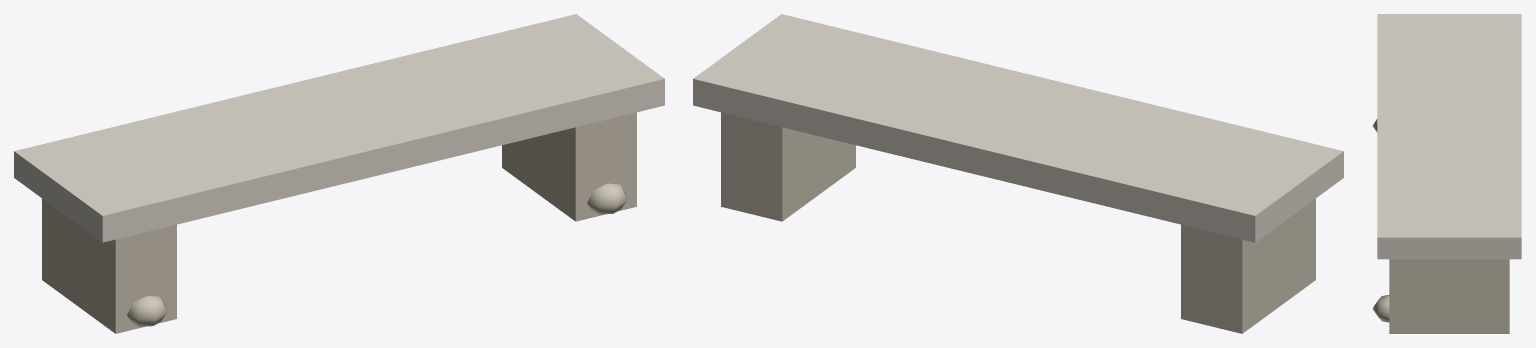
File: im_bench.glb
The picture shows the model from 3 angles, left to right: view 1: azimuth 30°, elevation 25°; view 2: azimuth 150°, elevation 25°; view 3: azimuth 270°, elevation 25°; orthographic projection. The views are drawn at different scales.
Parts seen in each view (by area): view 1: im_bench; view 2: im_bench; view 3: im_bench.
Part boxes in pixels (x1=…): im_bench: x1=14, y1=14, x2=664, y2=333; im_bench: x1=693, y1=14, x2=1343, y2=333; im_bench: x1=1372, y1=14, x2=1521, y2=333.
Bounding box in the file's own units: 2.2 × 0.48 × 0.62.
